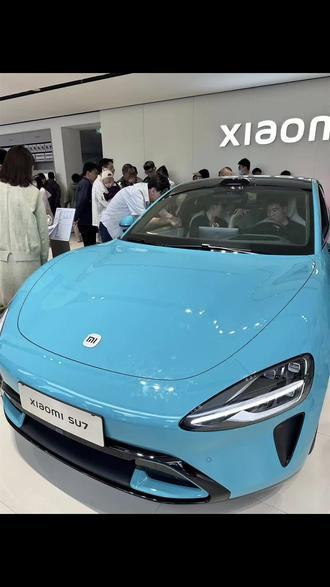su7: (7, 175, 330, 507)
